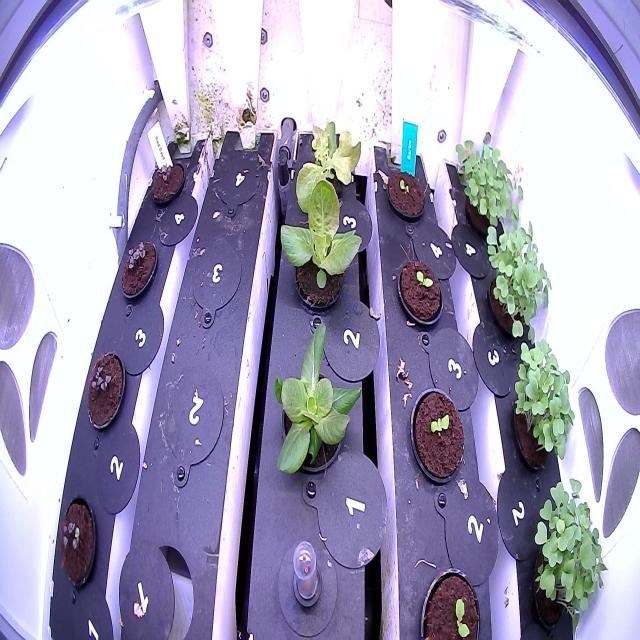empty_pod: (161, 357, 229, 489), (121, 526, 199, 638), (186, 230, 244, 330), (210, 147, 262, 216)
germination: (409, 379, 467, 493), (415, 560, 488, 639), (57, 487, 101, 600), (83, 344, 129, 436), (395, 253, 445, 332), (118, 233, 161, 311), (385, 160, 428, 228), (149, 151, 186, 209)
young: (264, 310, 373, 502), (270, 171, 364, 326)
